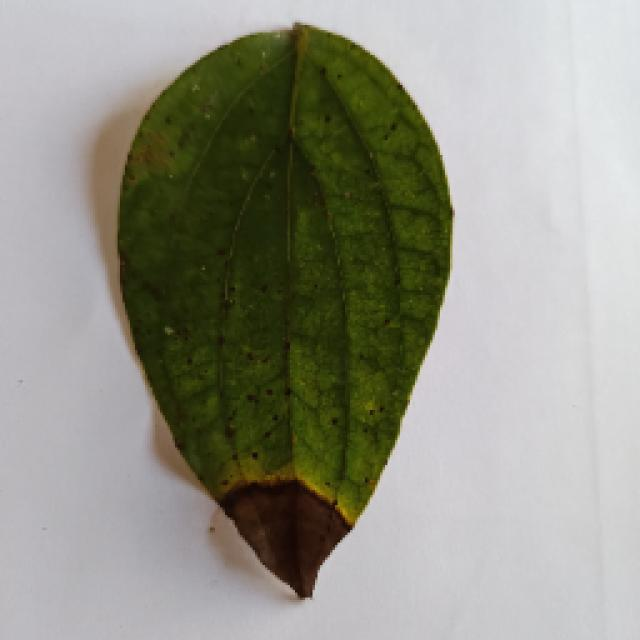footrot: (97, 30, 465, 600)
